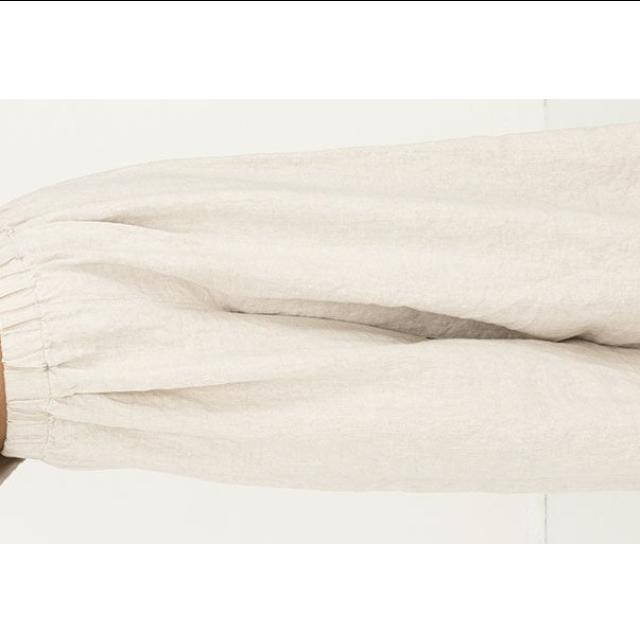linen: (0, 140, 640, 496)
